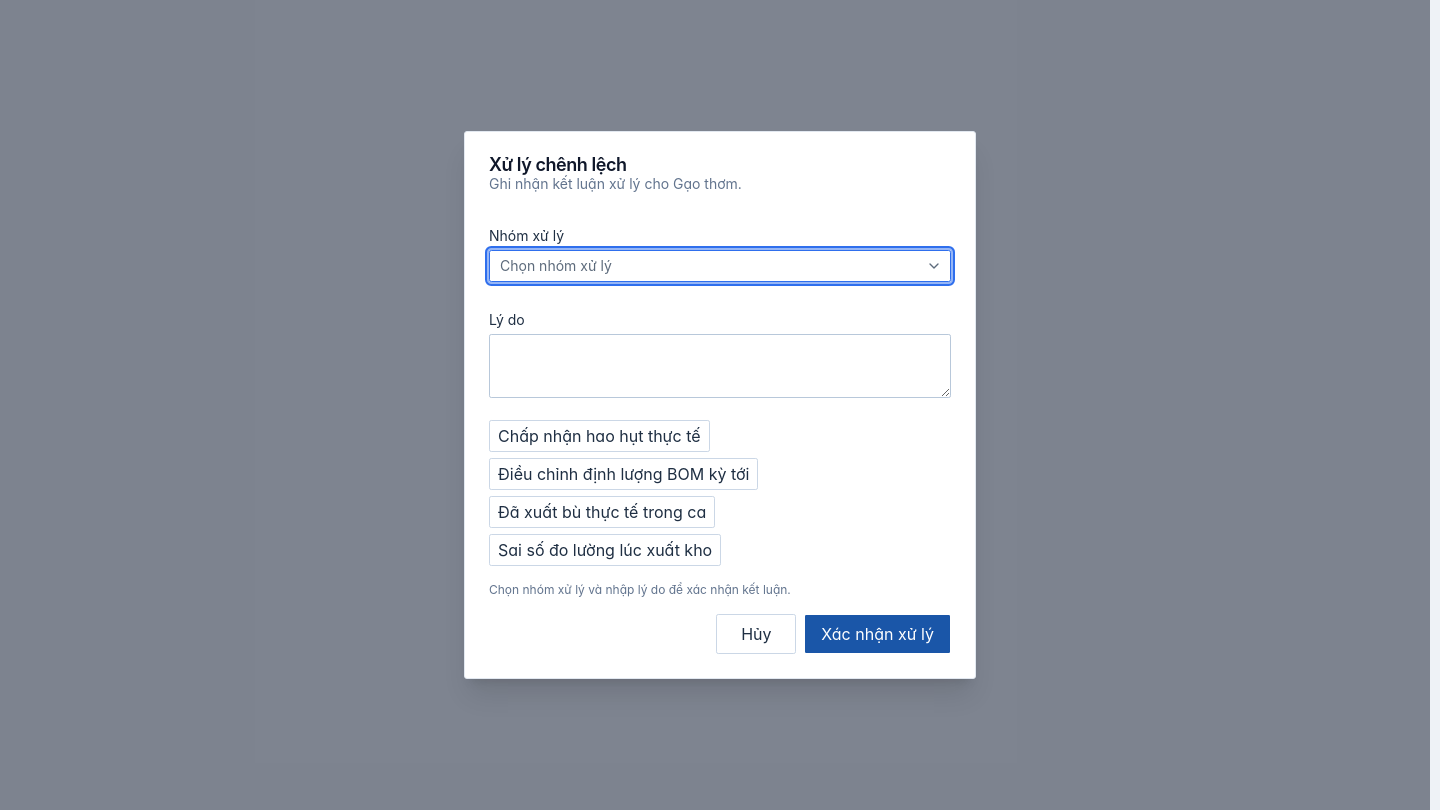
renders only server-owned disposition category options
The image size is (1440, 810).
Click the dropdown labelled "nhóm xử lý": (556, 266) [489,250,951,282]
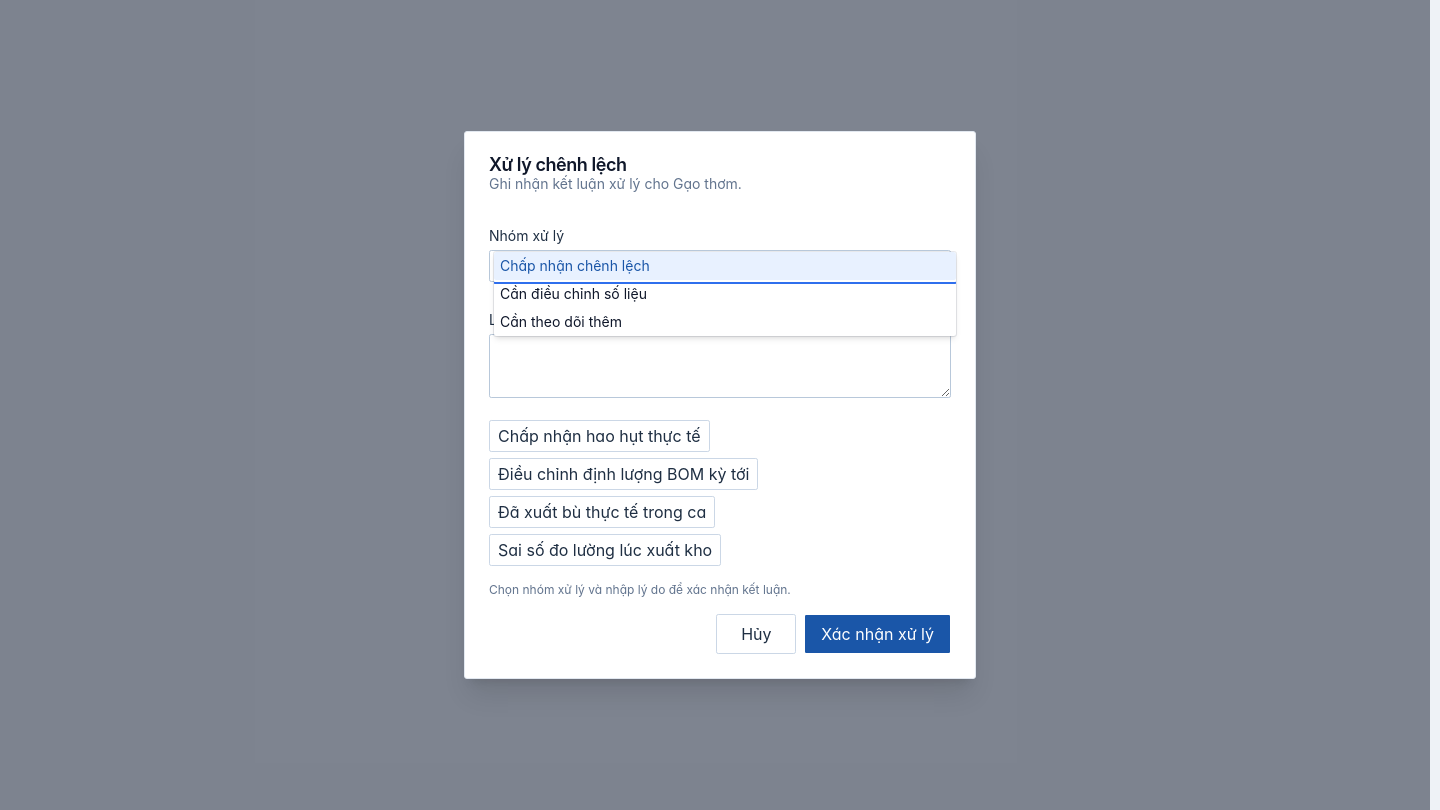
Now the option "Chấp nhận chênh lệch" is shown, box [494,252,956,280]
Now the option "Cần điều chỉnh số liệu" is shown, box [500,285,647,302]
Now the option "Cần theo dõi thêm" is shown, box [500,313,622,330]
